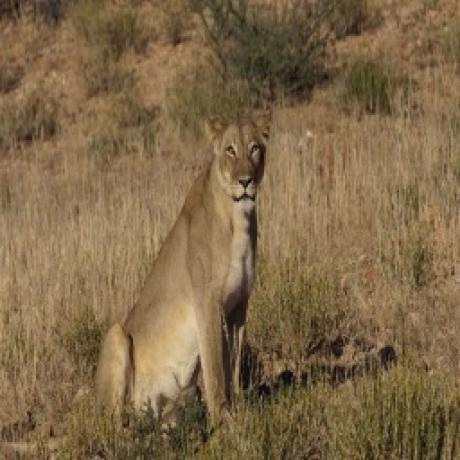Lion: (92, 101, 274, 419)
